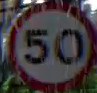Speed limit: (8, 0, 96, 87)
